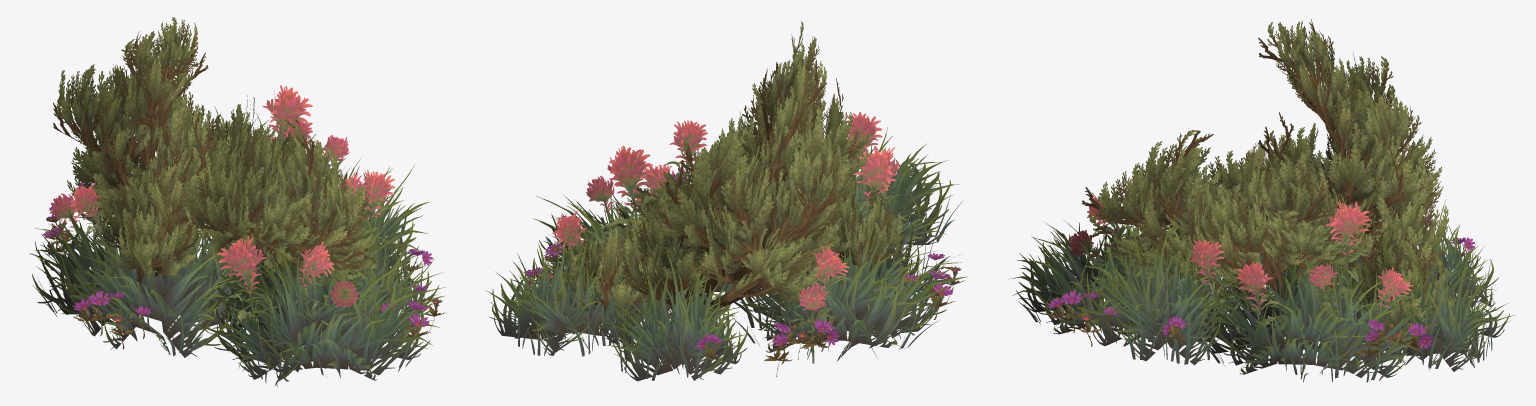
The picture shows the model from 3 angles, left to right: view 1: azimuth 30°, elevation 25°; view 2: azimuth 150°, elevation 25°; view 3: azimuth 270°, elevation 25°; orthographic projection. The views are drawn at different scales.
Size of the model in its own units: 11.12 by 8.25 by 13.43.
4 materials, 4 textured.
